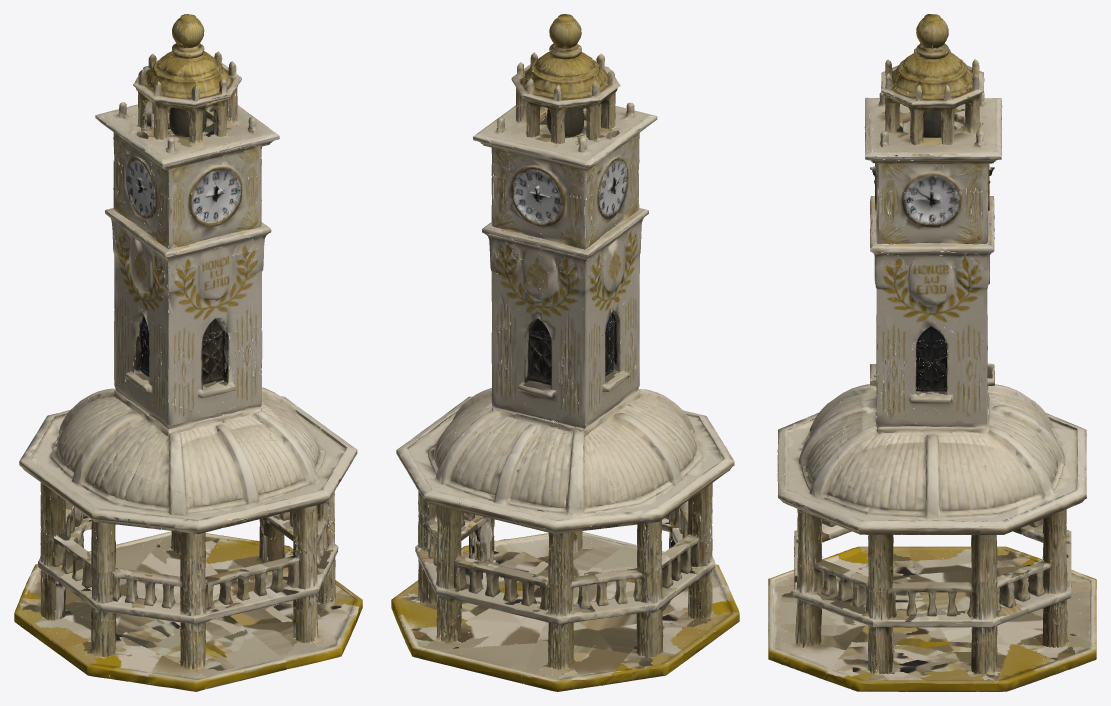
File: reloj.glb
The picture shows the model from 3 angles, left to right: view 1: azimuth 30°, elevation 25°; view 2: azimuth 150°, elevation 25°; view 3: azimuth 270°, elevation 25°; orthographic projection.
Visible parts, largest first — view 1: tmpzocniiprobj; view 2: tmpzocniiprobj; view 3: tmpzocniiprobj.
Part boxes in pixels (box(x1,y1,x2,y2)): tmpzocniiprobj: box(14, 14, 362, 691); tmpzocniiprobj: box(391, 14, 739, 691); tmpzocniiprobj: box(768, 14, 1096, 691).
Bounding box in the file's own units: 0.4823 × 1 × 0.4902.
Materials: 1 (1 with a texture image).
